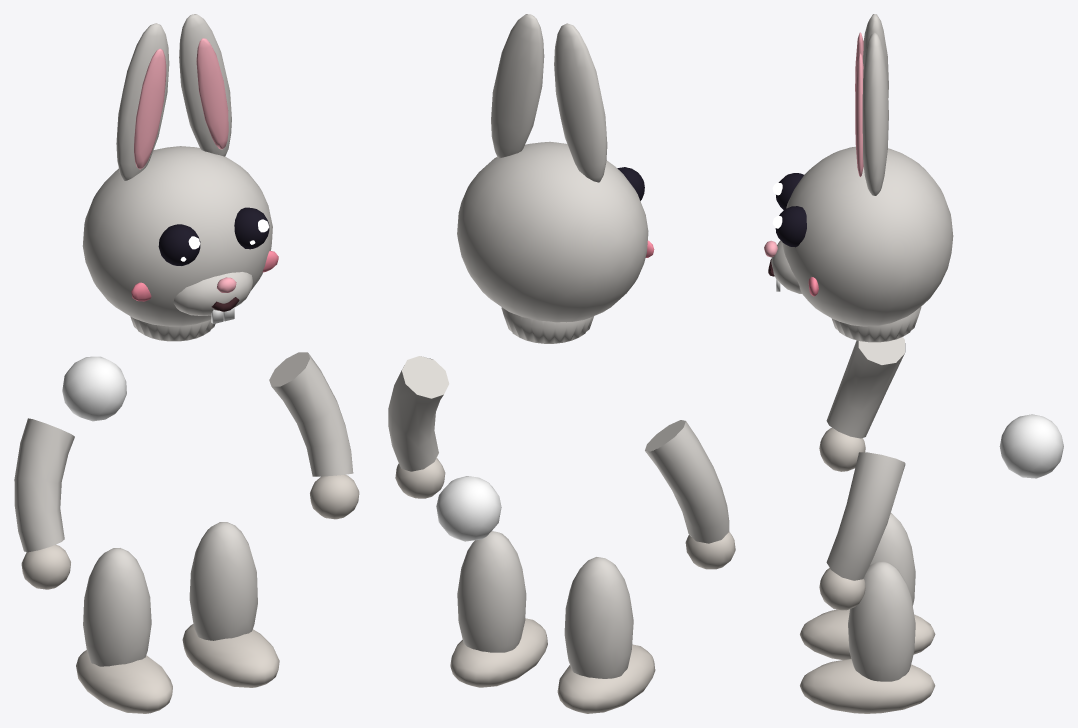
Rendered from tb_dyr_kanin.glb.
The picture shows the model from 3 angles, left to right: view 1: azimuth 30°, elevation 25°; view 2: azimuth 150°, elevation 25°; view 3: azimuth 270°, elevation 25°; orthographic projection. The views are drawn at different scales.
Visible parts, largest first — view 1: hode, bein_vf, bein_hf, vinge_v, vinge_h, hale; view 2: hode, bein_vf, bein_hf, vinge_v, vinge_h, hale; view 3: hode, bein_hf, vinge_h, vinge_v, bein_vf, hale.
Part boxes in pixels (bbox=[...]): hode: bbox=[82, 14, 278, 341]; bein_vf: bbox=[76, 548, 172, 713]; bein_hf: bbox=[182, 522, 279, 687]; vinge_v: bbox=[14, 418, 74, 589]; vinge_h: bbox=[269, 352, 359, 519]; hale: bbox=[62, 356, 126, 421]; hode: bbox=[457, 14, 654, 343]; bein_vf: bbox=[557, 557, 655, 713]; bein_hf: bbox=[450, 531, 547, 687]; vinge_v: bbox=[645, 420, 735, 569]; vinge_h: bbox=[388, 356, 449, 498]; hale: bbox=[436, 476, 501, 541]; hode: bbox=[764, 14, 953, 342]; bein_hf: bbox=[800, 561, 935, 713]; vinge_h: bbox=[819, 452, 905, 610]; vinge_v: bbox=[819, 337, 905, 471]; bein_vf: bbox=[800, 513, 935, 659]; hale: bbox=[999, 414, 1063, 478].
Bounding box in the file's own units: 1.06 × 2.04 × 0.8401.
